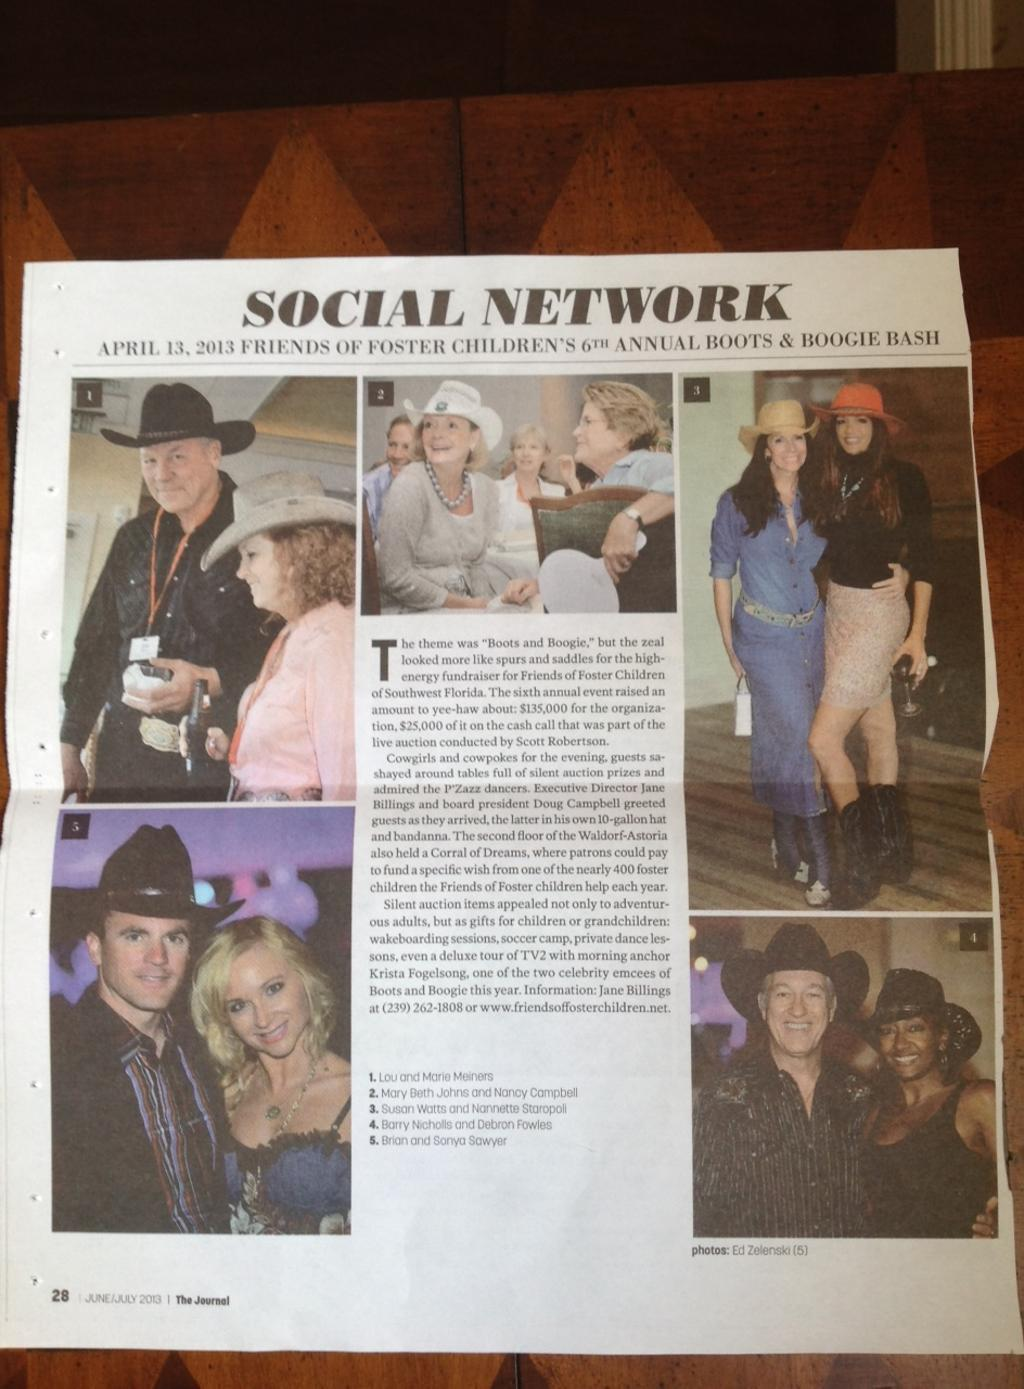face: (222, 944, 311, 1059), (103, 907, 190, 1010), (764, 970, 830, 1054), (139, 435, 209, 513), (236, 531, 290, 609), (878, 1015, 939, 1080), (573, 400, 617, 463), (422, 412, 470, 464), (386, 423, 420, 478), (768, 431, 807, 472), (836, 413, 873, 455), (513, 431, 546, 472)
